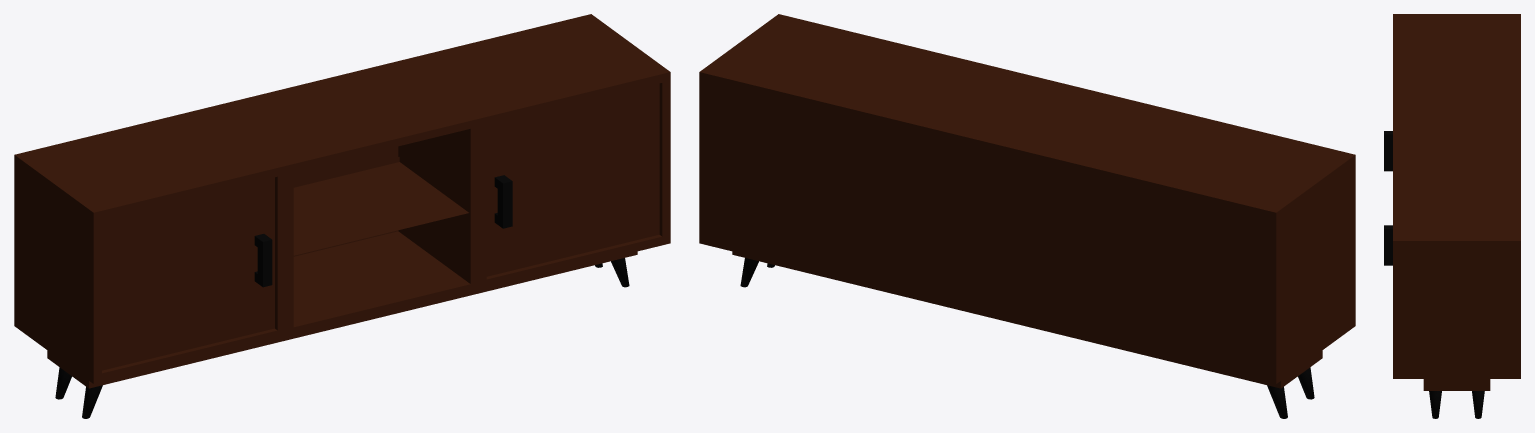
Rendered from tvtable.fbx.
3 views of the same model, side by side, from view 1: azimuth 30°, elevation 25°; view 2: azimuth 150°, elevation 25°; view 3: azimuth 270°, elevation 25° (orthographic). The views are drawn at different scales.
Parts seen in each view (by area): view 1: Cube.002; view 2: Cube.002; view 3: Cube.002.
Part boxes in pixels (x1,y1,x2,y2): Cube.002: (14, 14, 670, 418); Cube.002: (699, 14, 1355, 418); Cube.002: (1384, 14, 1520, 418).
Size of the model in its own units: 1015 by 384 by 259.
